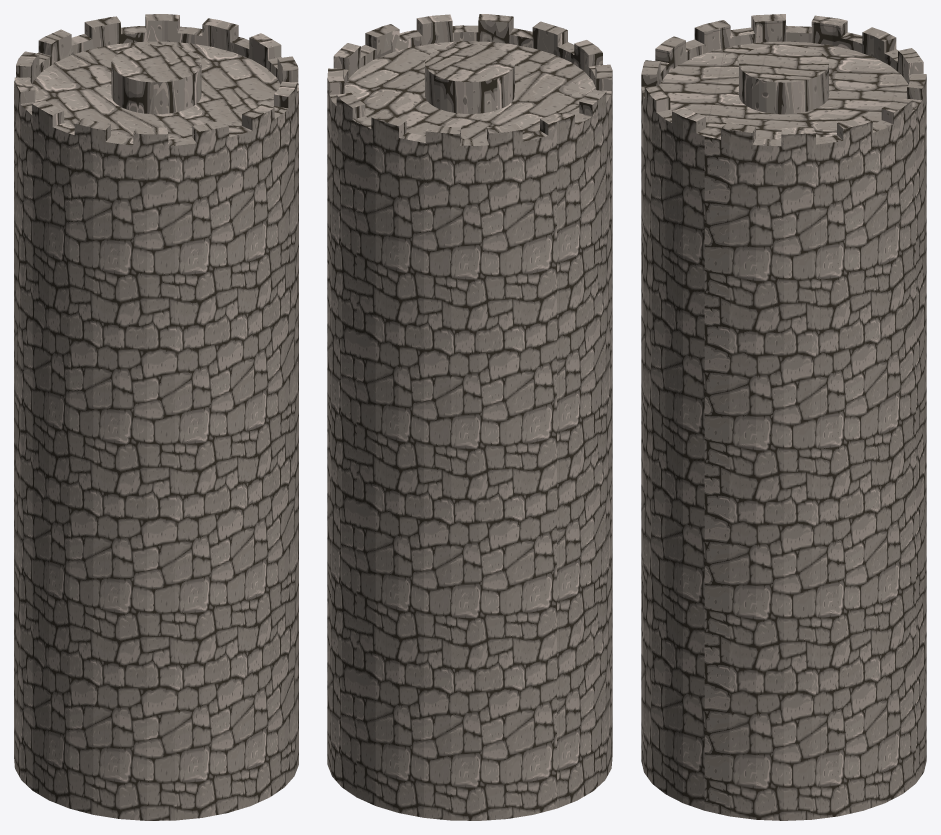
The model's file is tower_simple.glb.
3 views of the same model, side by side, from view 1: azimuth 30°, elevation 25°; view 2: azimuth 150°, elevation 25°; view 3: azimuth 270°, elevation 25° (orthographic).
Parts seen in each view (by area): view 1: tower; view 2: tower; view 3: tower.
Boxes of the visible parts, <box> form: tower: <box>14,14,298,820</box>; tower: <box>327,14,612,820</box>; tower: <box>641,14,926,820</box>.
Size of the model in its own units: 1.95 by 5.24 by 1.95.
1 material, 1 textured.
